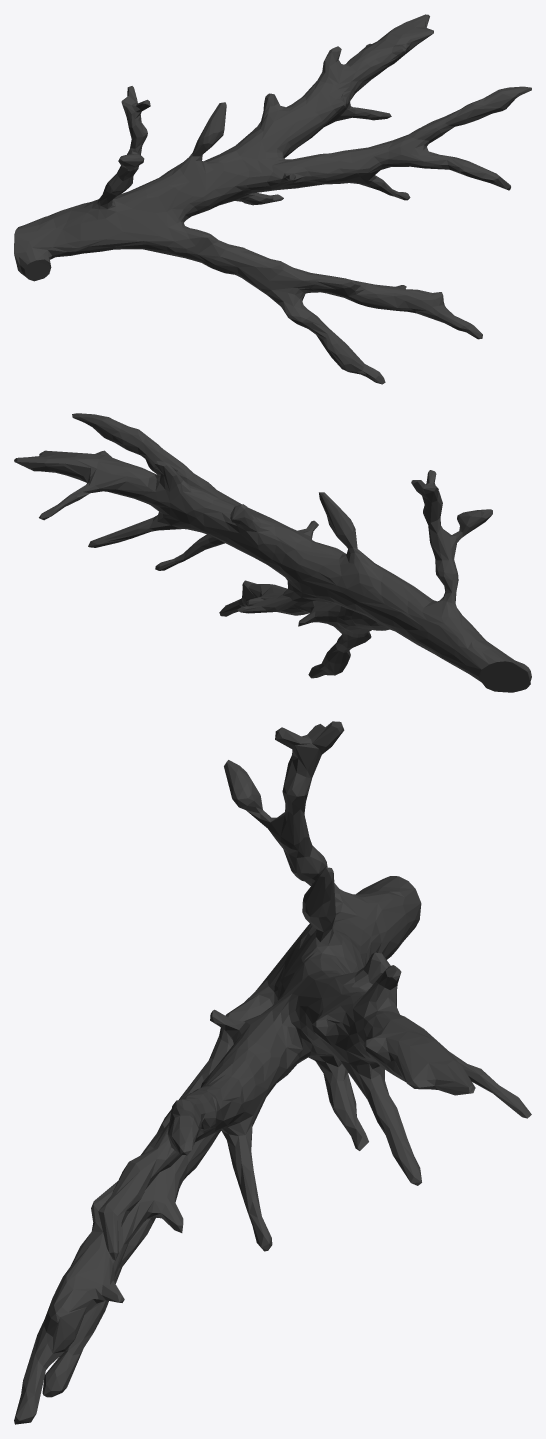
The model's file is Left_caudal_lobe_bronchus_1.glb.
The picture shows the model from 3 angles, top to bottom: view 1: azimuth 30°, elevation 25°; view 2: azimuth 150°, elevation 25°; view 3: azimuth 270°, elevation 25°; orthographic projection. The views are drawn at different scales.
Visible parts, largest first — view 1: Left_caudal_lobe_bronchus_1; view 2: Left_caudal_lobe_bronchus_1; view 3: Left_caudal_lobe_bronchus_1.
Part boxes in pixels (<box>): Left_caudal_lobe_bronchus_1: <box>14,14,531,384</box>; Left_caudal_lobe_bronchus_1: <box>14,413,531,692</box>; Left_caudal_lobe_bronchus_1: <box>14,721,531,1424</box>.
Size of the model in its own units: 4.88 by 2.8 by 2.53.
1 material, 1 textured.
